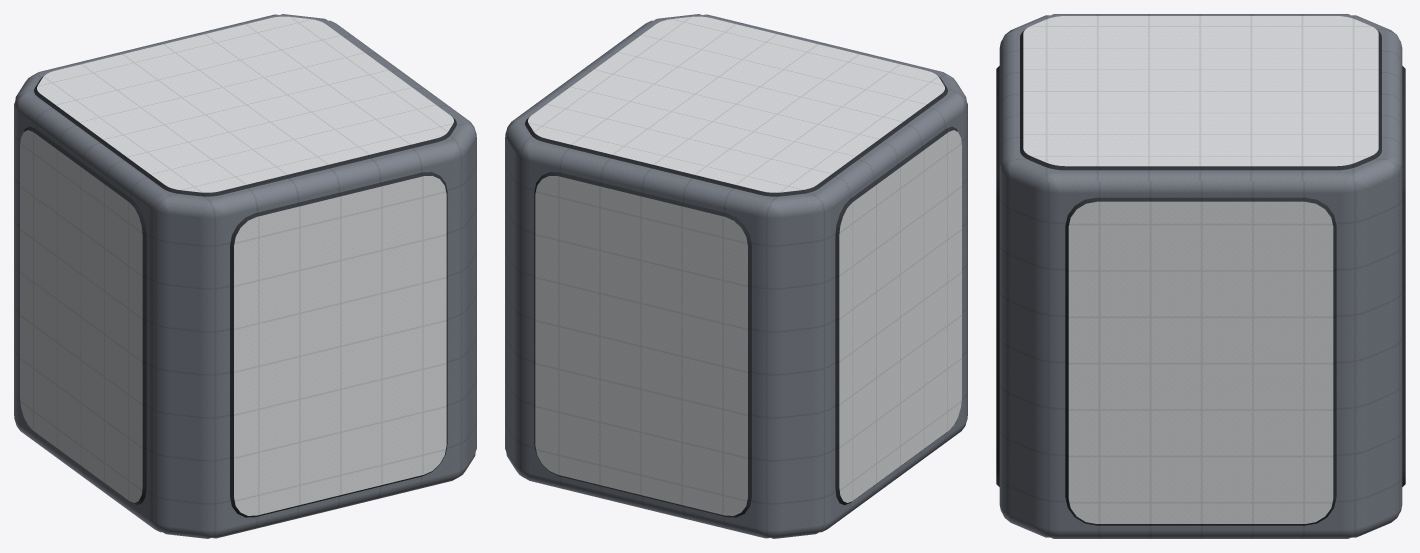
File: R4B_OctColumn.glb
3 renders of one model, left to right at view 1: azimuth 30°, elevation 25°; view 2: azimuth 150°, elevation 25°; view 3: azimuth 270°, elevation 25°, orthographic. The views are drawn at different scales.
Visible parts, largest first — view 1: R4B_OctColumn; view 2: R4B_OctColumn; view 3: R4B_OctColumn.
Boxes of the visible parts, box(x1,y1,x2,y2) form: R4B_OctColumn: box(14, 14, 476, 538); R4B_OctColumn: box(505, 14, 967, 538); R4B_OctColumn: box(996, 14, 1405, 538).
Size of the model in its own units: 0.52 by 0.52 by 0.52.
Materials: 3 (3 with a texture image).
